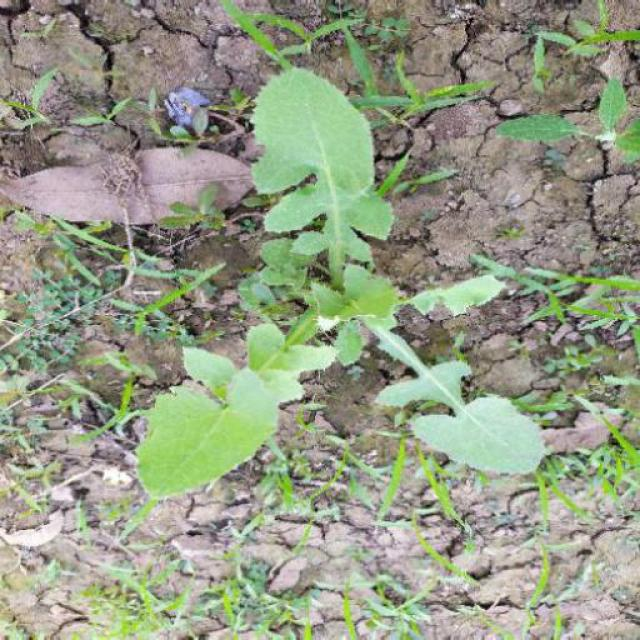crop: (137, 68, 544, 498), (86, 577, 308, 640), (14, 244, 110, 388), (561, 430, 640, 502)
